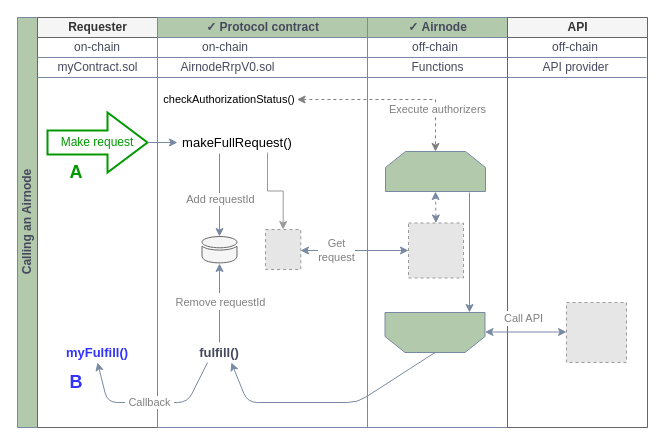
Image size: 665x445. Some labels were removed from this diagram. Grey dashed boxes stand in for pictures. The centre of each missing label's shape, as x and y in pixels:
"Generate Response" belongs at point 434,332.
"Run cycle" belongs at point 435,171.
